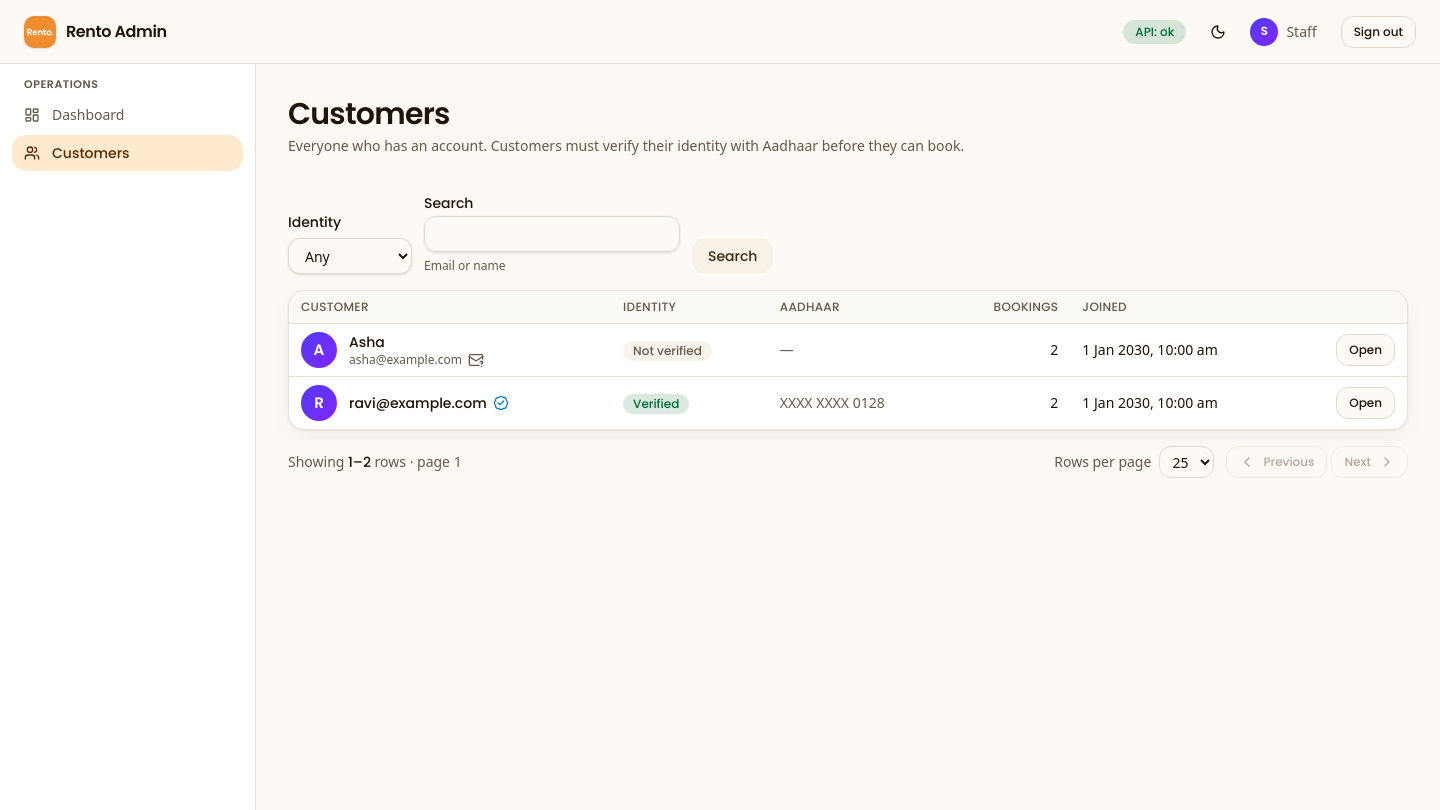
it: customers › U-05 read-only staff see no decision buttons
The image size is (1440, 810).
Click the button with aria-label "Open asha@example.com" at x=1366, y=350, box [1336,334,1395,366]
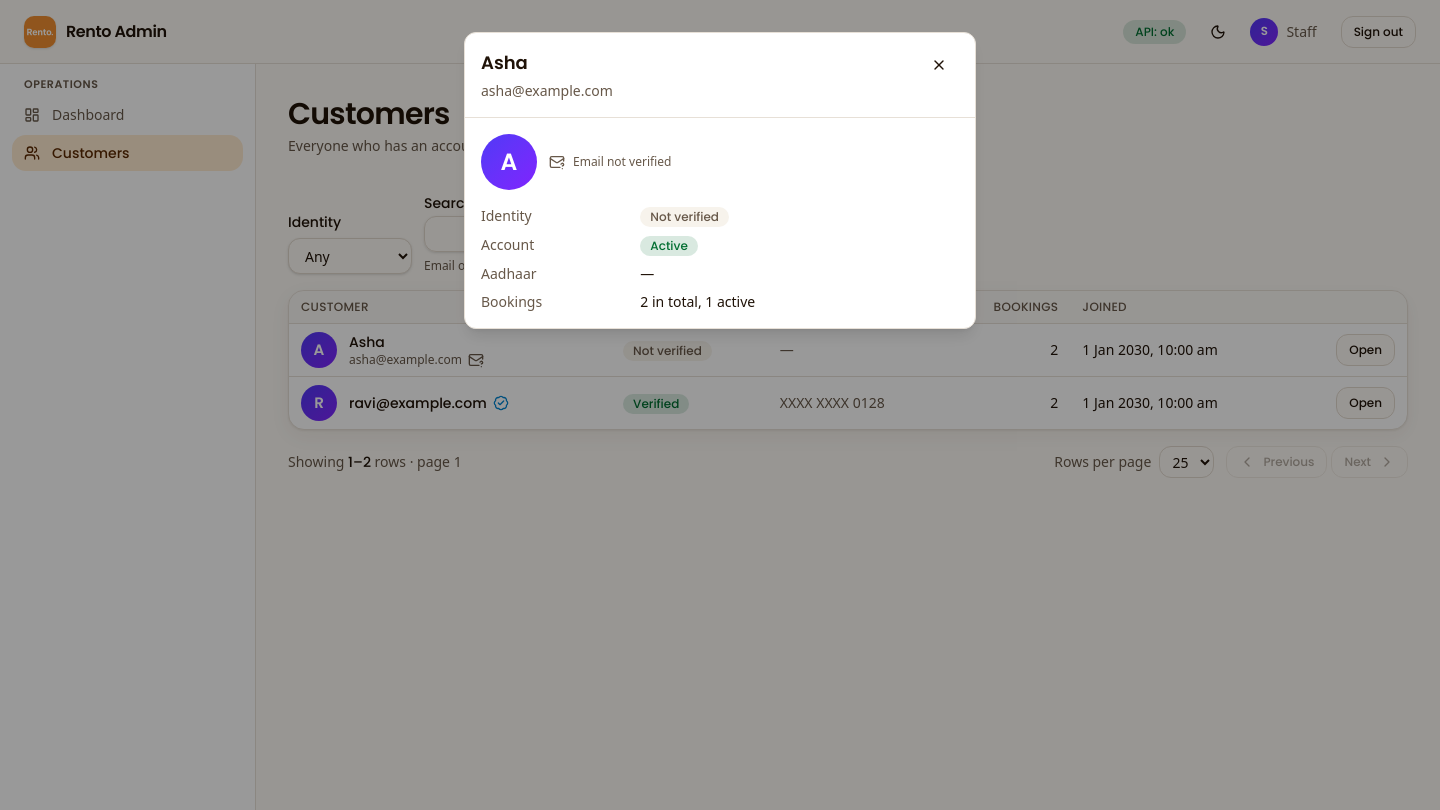
Check: the text "2 in total, 1 active" is shown, box [640,292,755,311]
